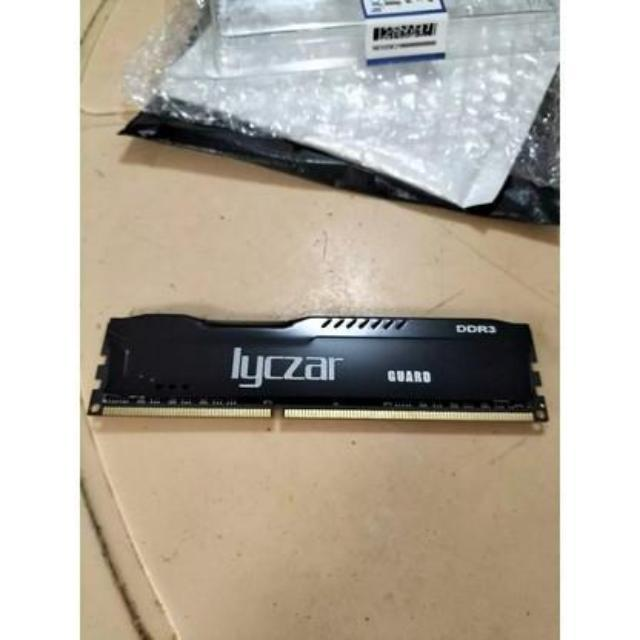RAM: (78, 298, 554, 438)
